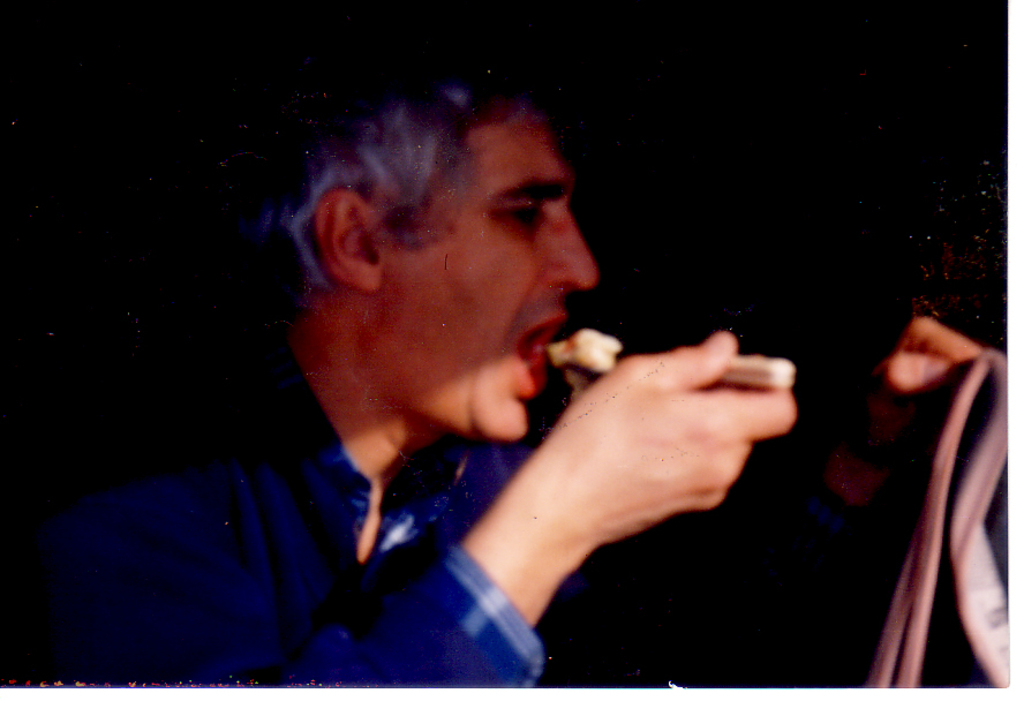Human_hand: (459, 362, 777, 606)
